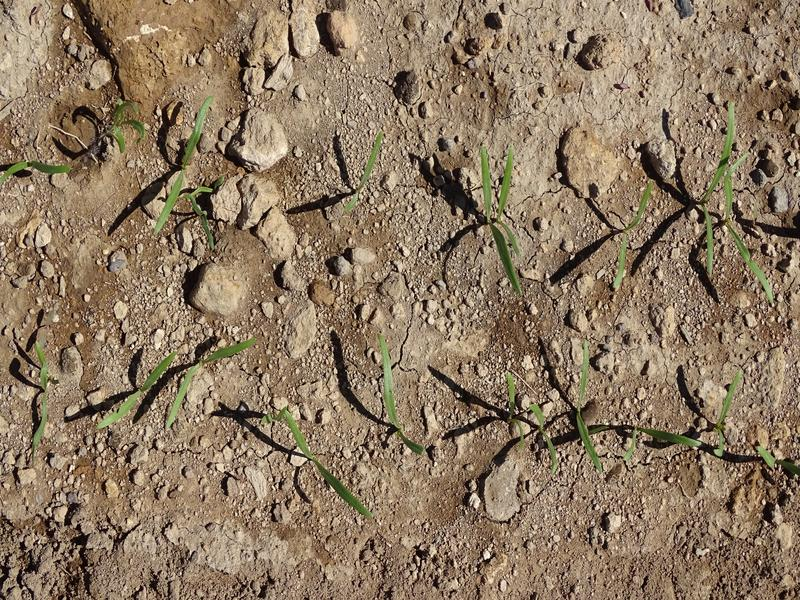Espinaca: (698, 96, 778, 305), (279, 407, 378, 520), (148, 91, 221, 242), (469, 142, 526, 298), (166, 333, 259, 427), (503, 372, 567, 473), (374, 330, 424, 458), (98, 350, 181, 427), (575, 349, 620, 477), (609, 184, 654, 291), (340, 130, 387, 215), (30, 334, 53, 453), (1, 157, 76, 183)
